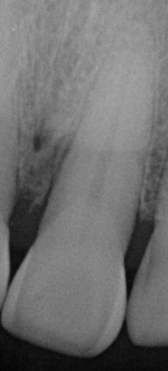tooth: (2, 47, 156, 360)
